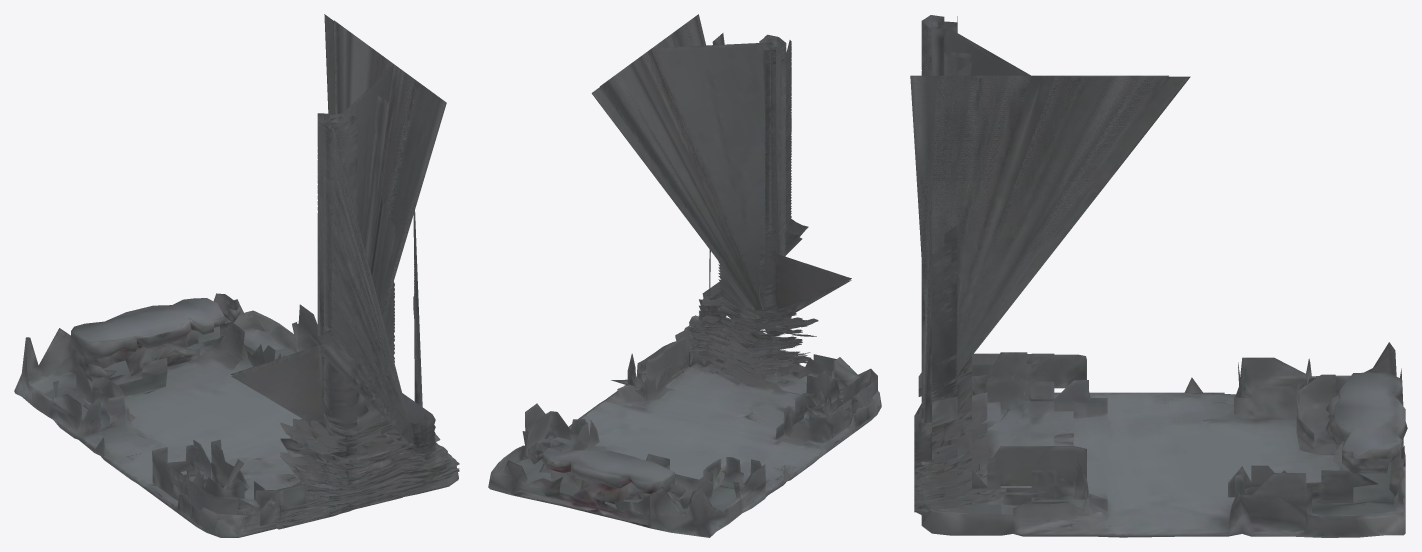
File: gate-arch.opt.glb
3 renders of one model, left to right at view 1: azimuth 30°, elevation 25°; view 2: azimuth 150°, elevation 25°; view 3: azimuth 270°, elevation 25°, orthographic. The views are drawn at different scales.
Size of the model in its own units: 1.28 by 1.89 by 1.89.
Materials: 1 (1 with a texture image).
